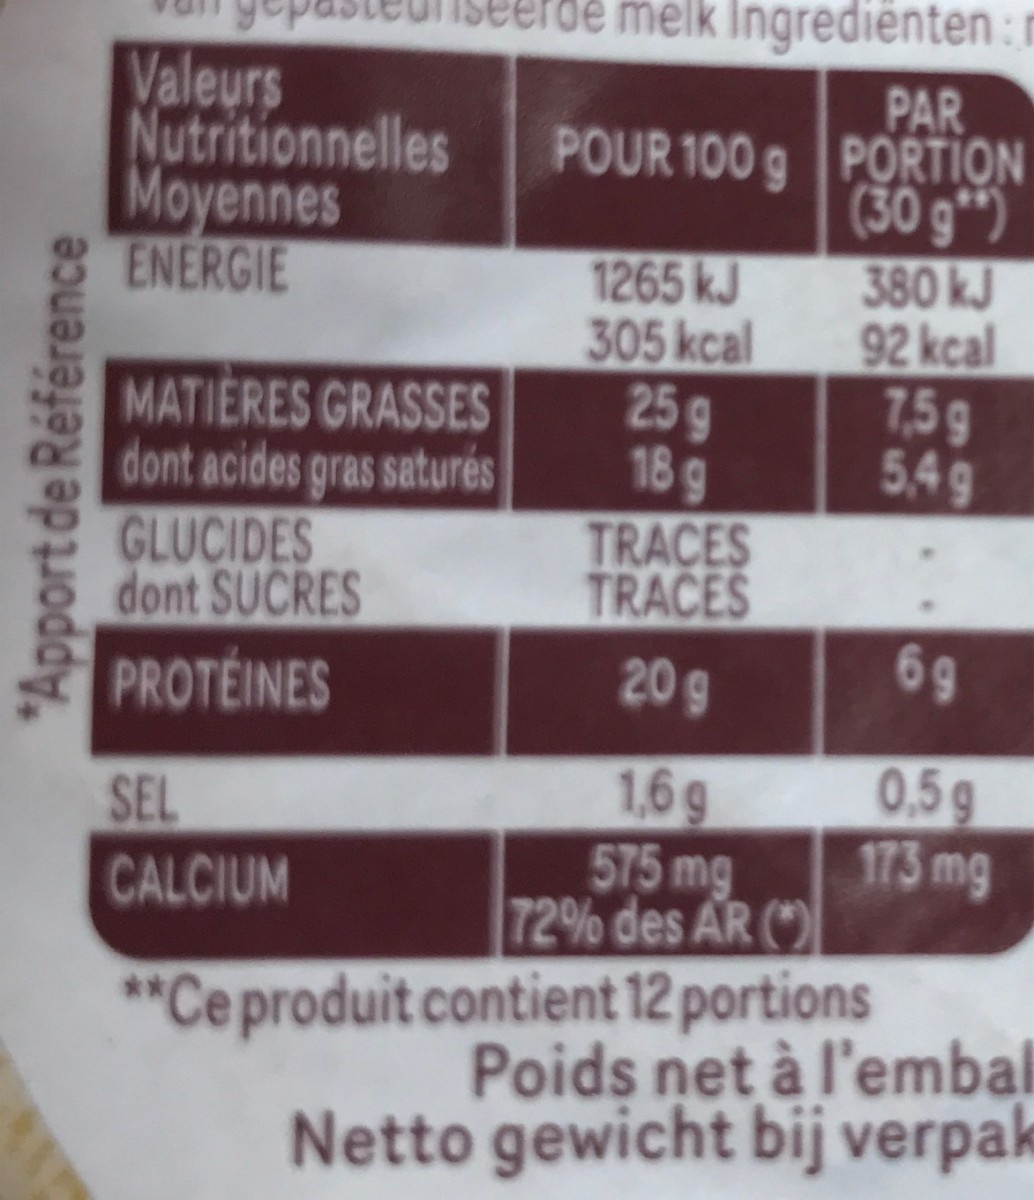column: (110, 48, 496, 919), (512, 57, 813, 952), (839, 59, 1023, 946)
table: (107, 35, 1034, 974)
